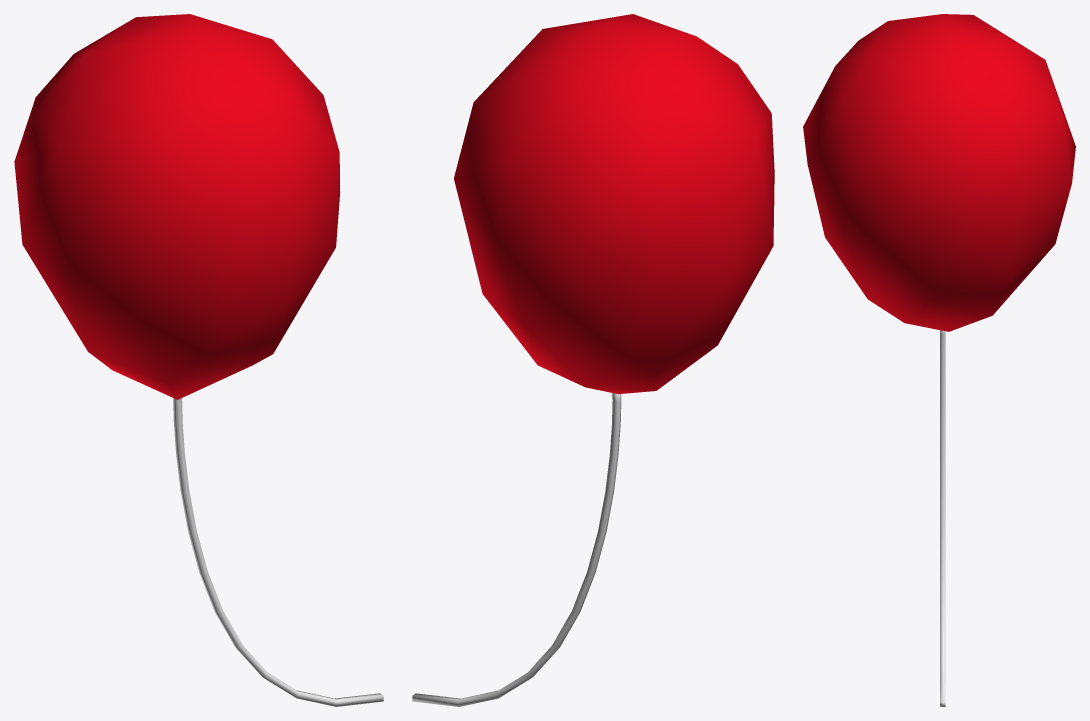
The model's file is Balloon.glb.
The picture shows the model from 3 angles, left to right: view 1: azimuth 30°, elevation 25°; view 2: azimuth 150°, elevation 25°; view 3: azimuth 270°, elevation 25°; orthographic projection. The views are drawn at different scales.
Parts seen in each view (by area): view 1: Balloon; view 2: Balloon; view 3: Balloon.
Boxes of the visible parts, x1,y1,x2,y2 form: Balloon: [14, 14, 383, 706]; Balloon: [412, 14, 774, 706]; Balloon: [803, 14, 1075, 706].
Bounding box in the file's own units: 2.41 × 4.88 × 2.02.
